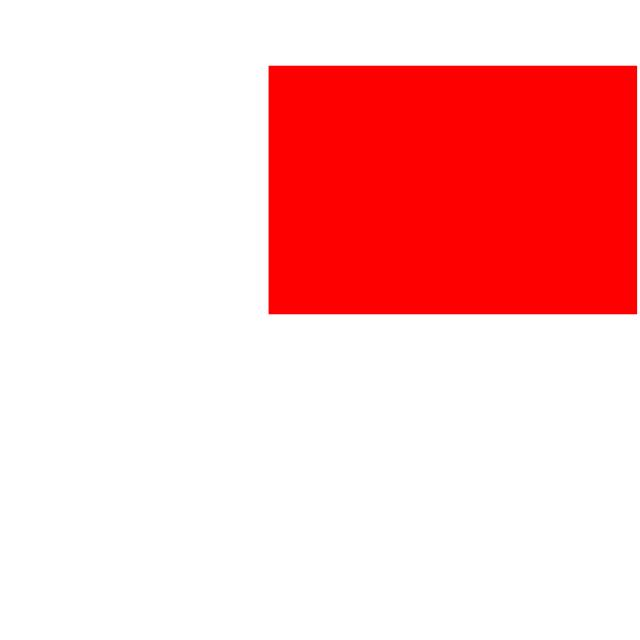Rectangle: (254, 53, 640, 366)
